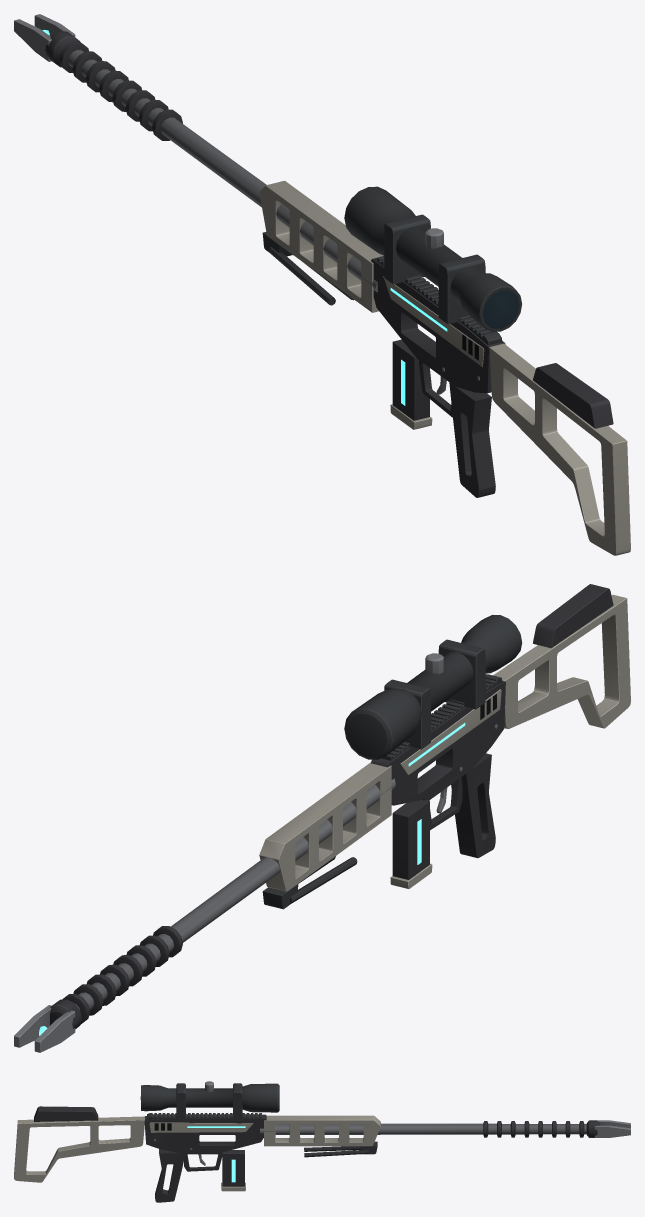
File: e_sniper.glb
The picture shows the model from 3 angles, top to bottom: view 1: azimuth 30°, elevation 25°; view 2: azimuth 150°, elevation 25°; view 3: azimuth 270°, elevation 25°; orthographic projection. The views are drawn at different scales.
Parts seen in each view (by area): view 1: Body, ThirdPersonOnly, IronSight, Cell; view 2: Body, IronSight, ThirdPersonOnly, Cell; view 3: Body, ThirdPersonOnly, IronSight, Cell.
Part boxes in pixels (box(x1,y1,x2,y2)): Body: box(14, 14, 505, 497); ThirdPersonOnly: box(489, 343, 630, 555); IronSight: box(344, 186, 521, 331); Cell: box(390, 339, 432, 429); Body: box(14, 674, 505, 1052); IronSight: box(344, 615, 522, 759); ThirdPersonOnly: box(493, 584, 630, 728); Cell: box(390, 800, 432, 888); Body: box(144, 1113, 630, 1202); ThirdPersonOnly: box(14, 1106, 144, 1182); IronSight: box(140, 1081, 279, 1121); Cell: box(221, 1150, 245, 1191).
Bounding box in the file's own units: 0.072 × 0.3224 × 1.53.
